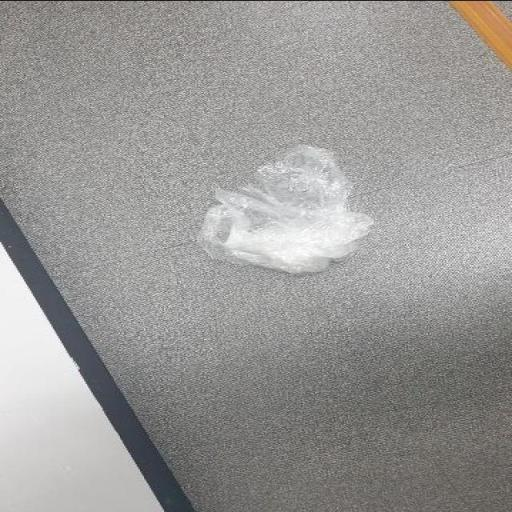plastic-bag: (195, 142, 377, 277)
